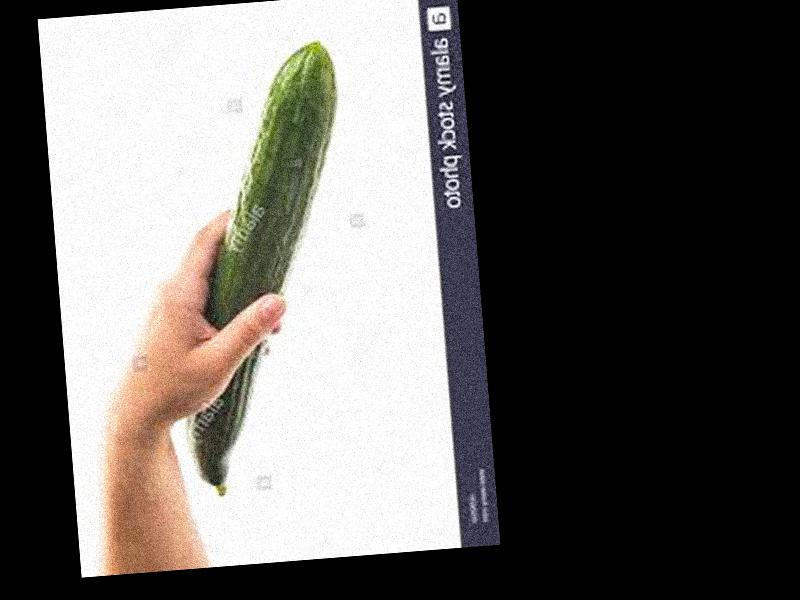Cucumber: (156, 39, 368, 500)
